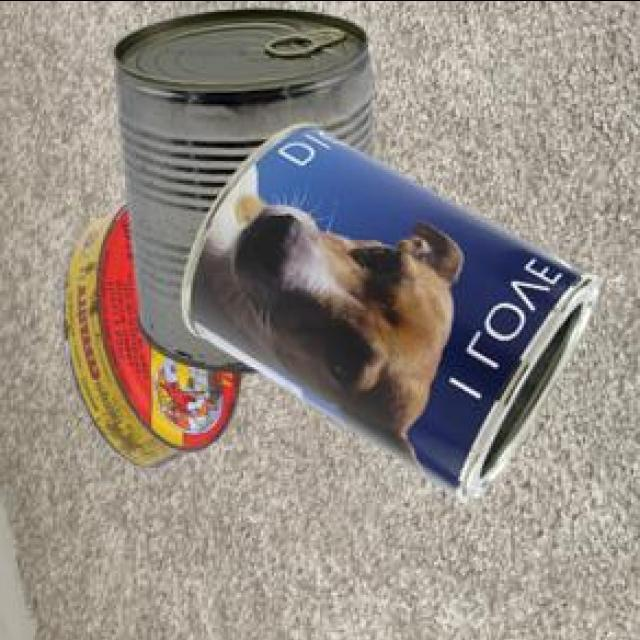logam: (179, 119, 597, 501), (111, 5, 369, 369), (58, 198, 238, 466)
